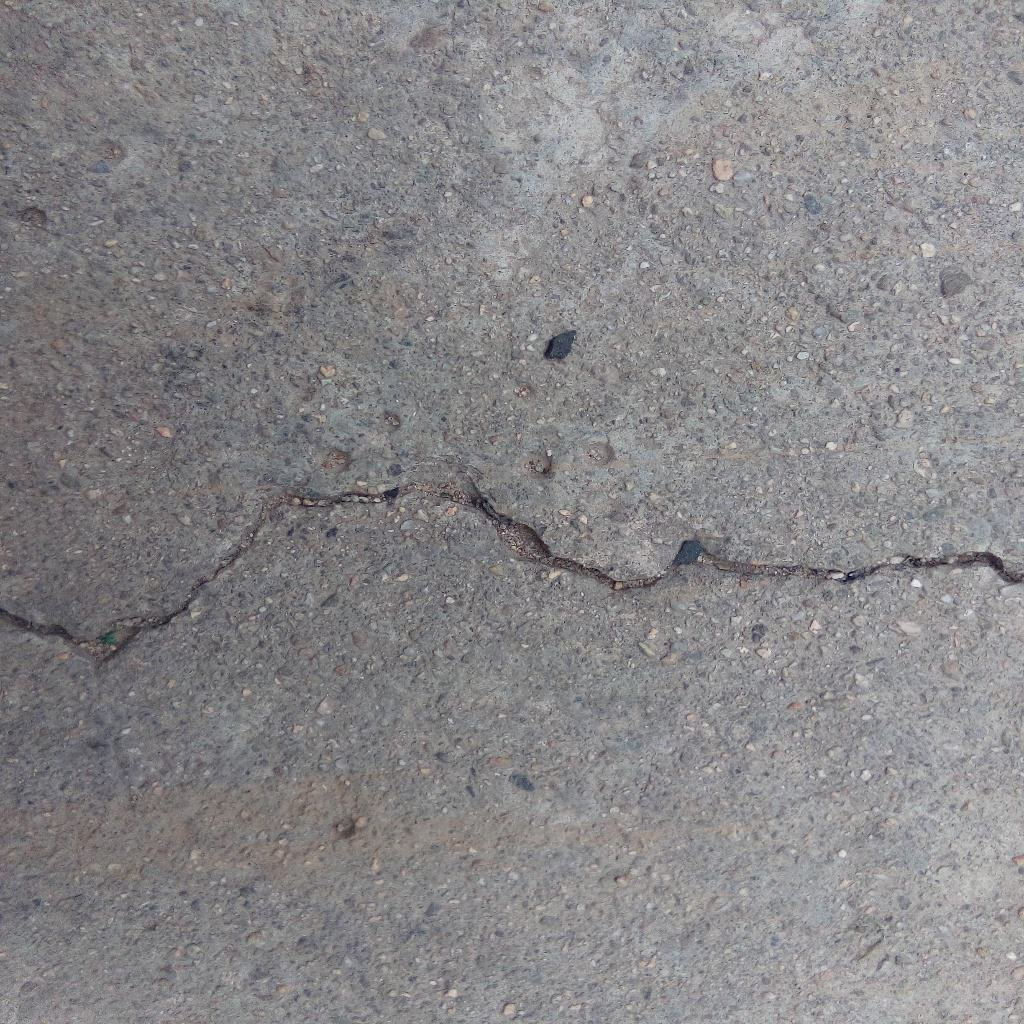Crack: (1, 478, 1024, 667)
